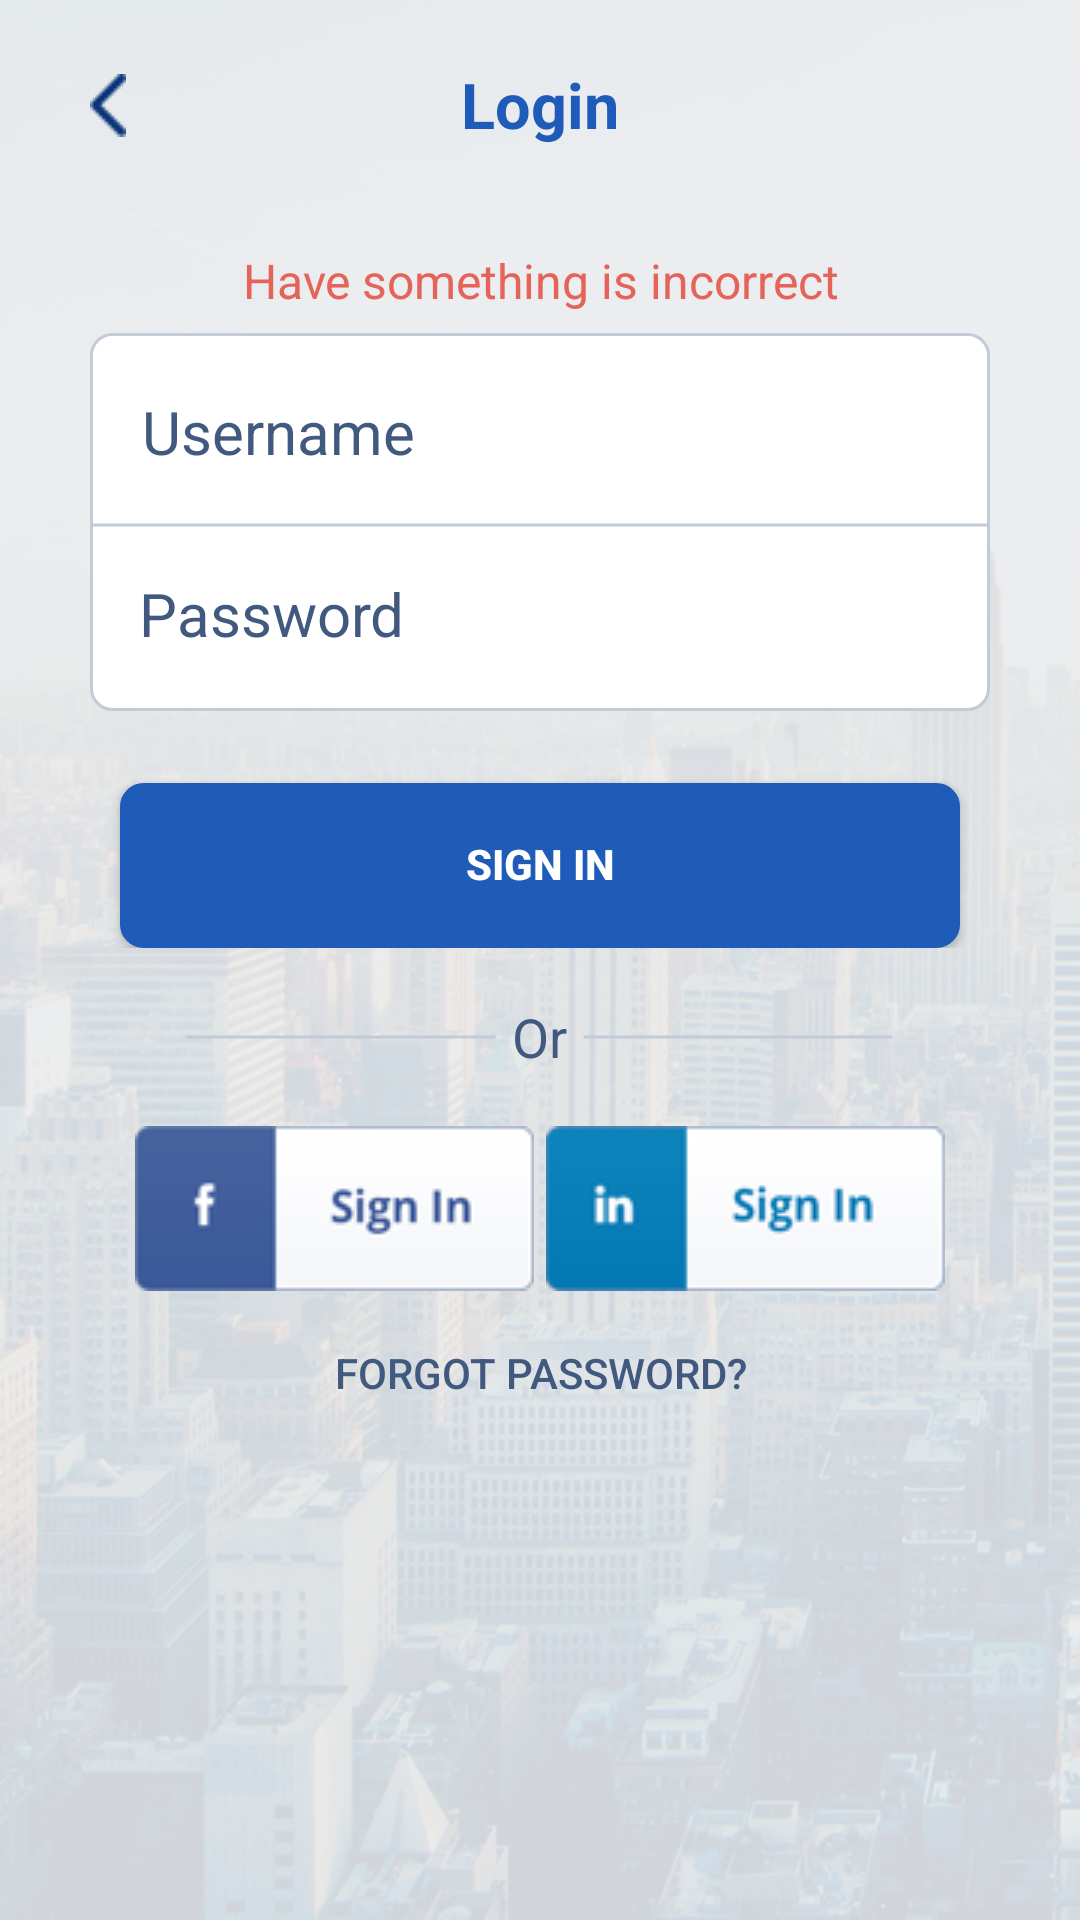

Icons on this 1080px x 1920px Android screen, each with its box as region(x1, y1, x2, y2):
back: region(90, 74, 126, 137)
